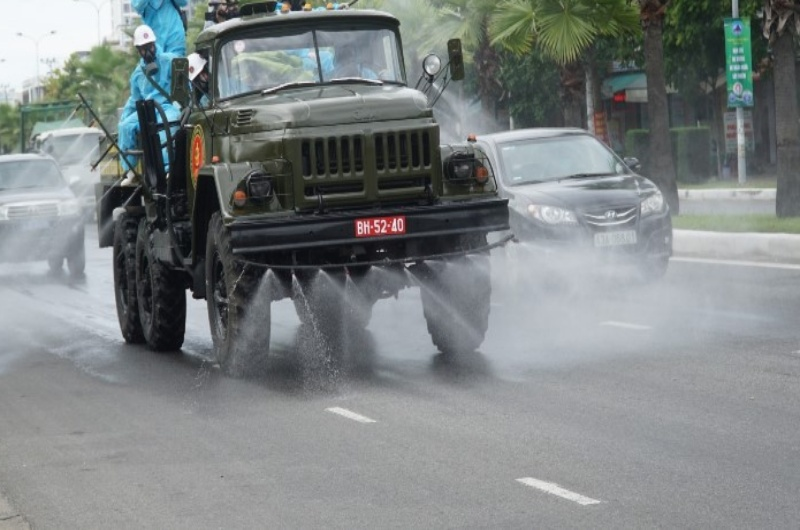plate: (353, 214, 407, 237), (595, 229, 636, 249)
